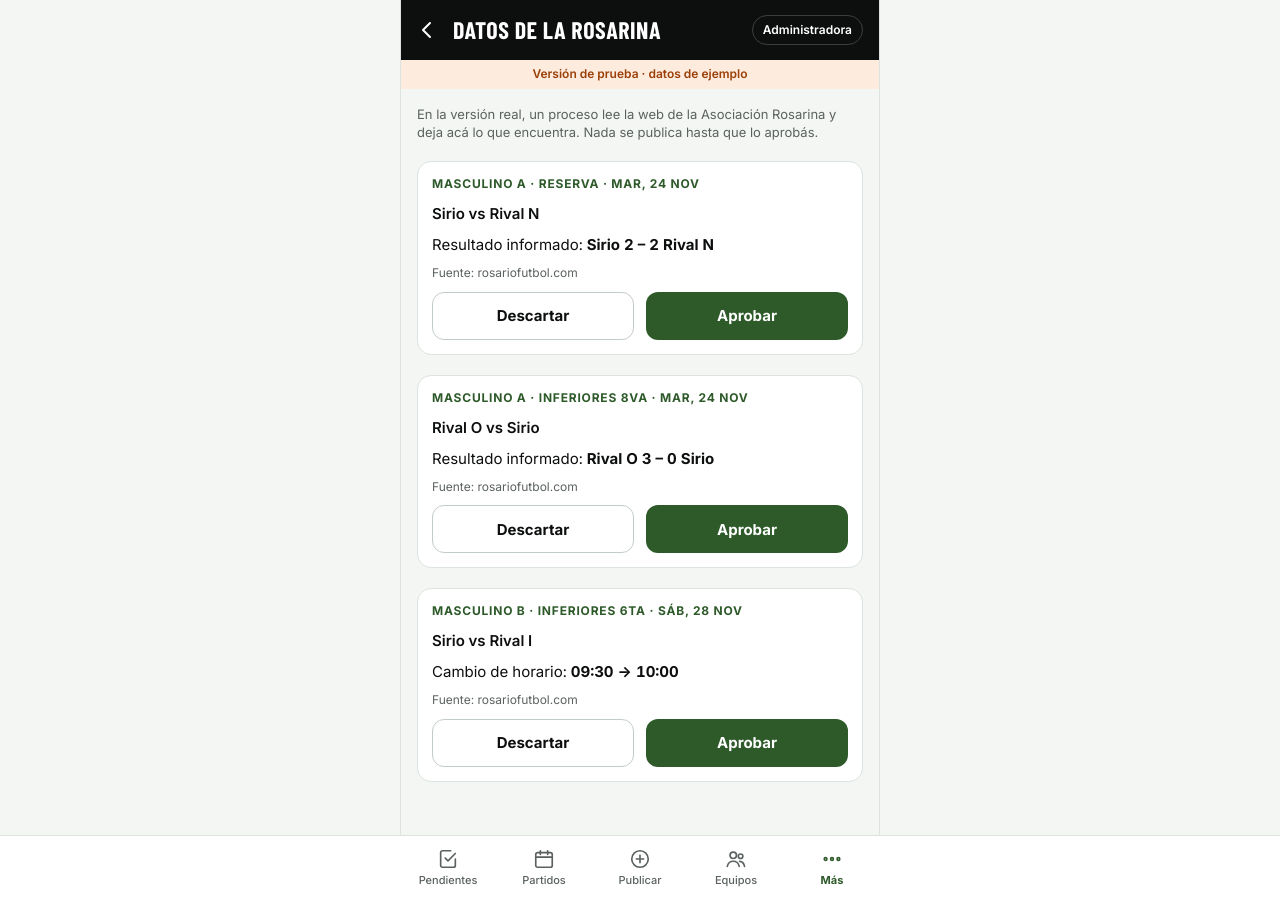
privacidad y permisos en pantalla › la administradora aprueba un resultado de la Rosarina y queda publicado
The width and height of the screenshot is (1280, 900).
Step 1. Click the button "Aprobar" below "Sirio 2 – 2 Rival N" → click(747, 316), box x1=646 y1=292 x2=848 y2=340
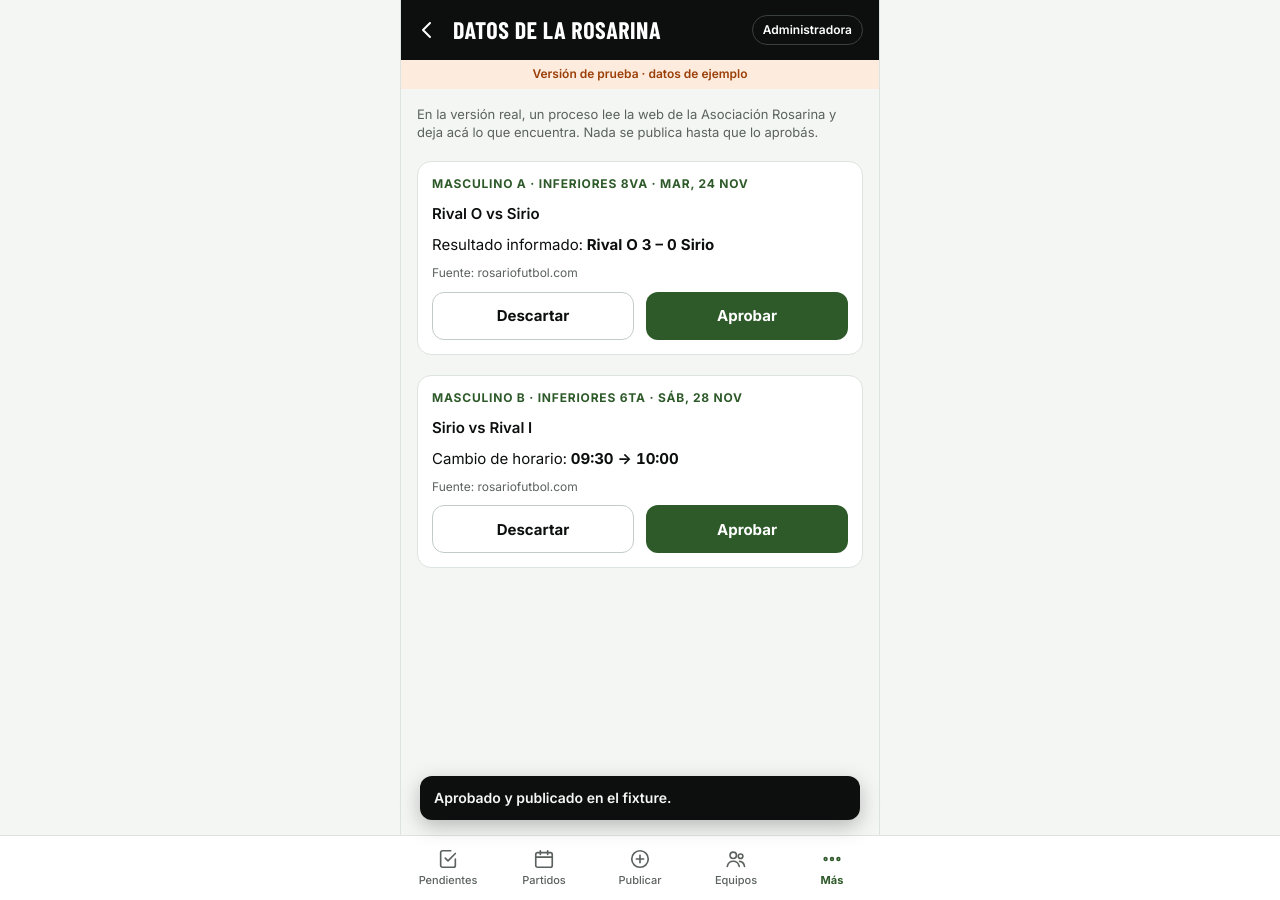
Now the number of buttons "Aprobar" is 2, box x1=646 y1=292 x2=848 y2=340; x1=646 y1=505 x2=848 y2=553
